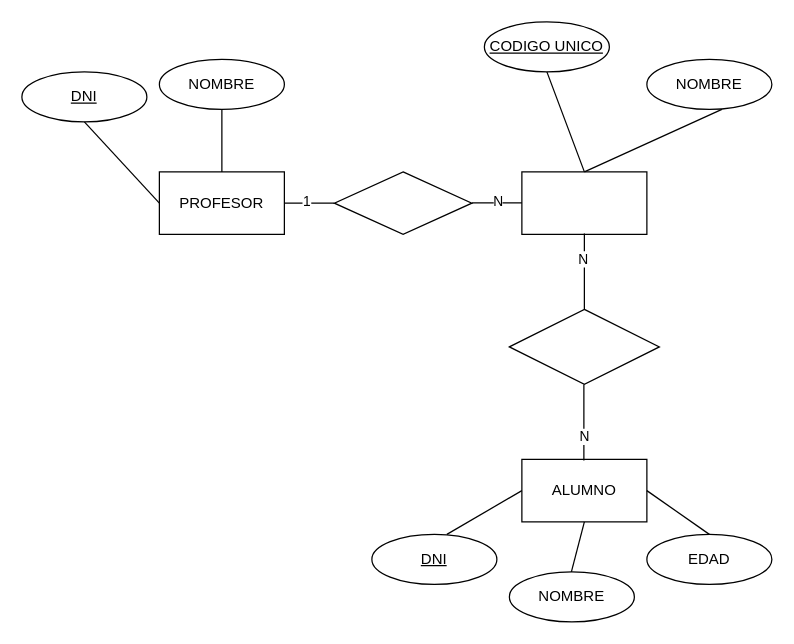
The diagram is 794 pixels wide and 644 high, and some of its shapes have lost their labels. Each missing label, with the box of its shape:
ASIGNATURA: (521, 171, 647, 234)
DICTA: (333, 171, 472, 234)
INSCRIBE: (508, 308, 659, 384)
